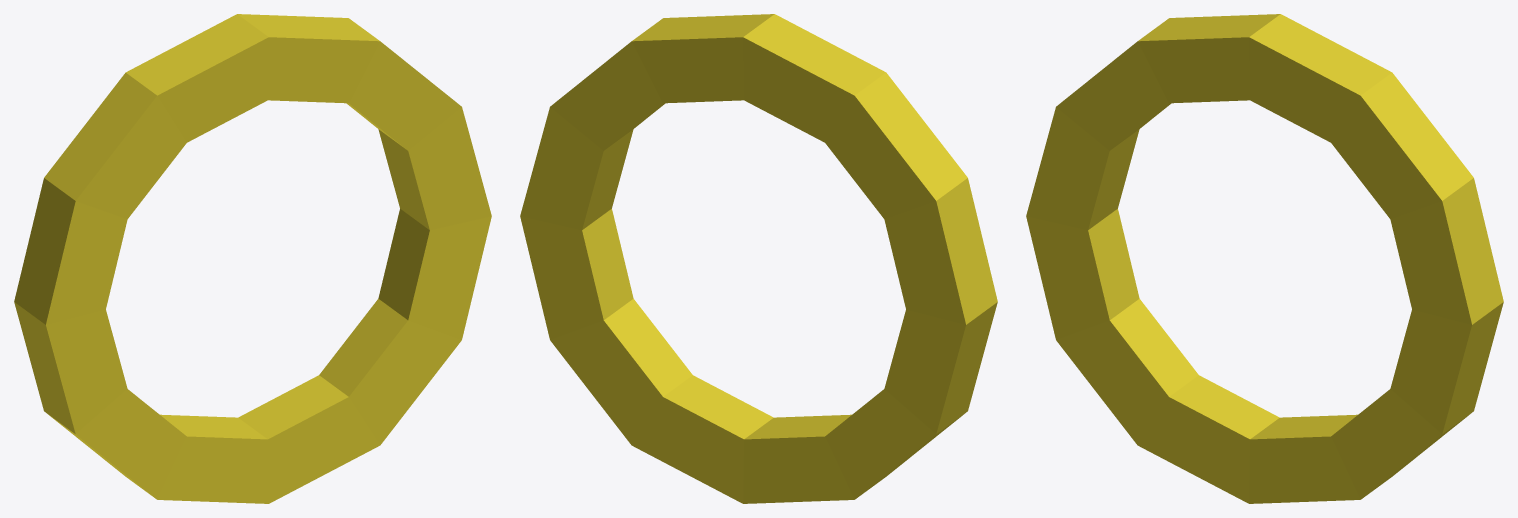
Rendered from Ring_01.fbx.
The picture shows the model from 3 angles, left to right: view 1: azimuth 30°, elevation 25°; view 2: azimuth 150°, elevation 25°; view 3: azimuth 330°, elevation 25°; orthographic projection.
Parts seen in each view (by area): view 1: Ring_01; view 2: Ring_01; view 3: Ring_01.
Boxes of the visible parts, x1=… form: Ring_01: x1=14, y1=14, x2=491, y2=503; Ring_01: x1=520, y1=14, x2=997, y2=503; Ring_01: x1=1026, y1=14, x2=1503, y2=503.
Bounding box in the file's own units: 200 × 200 × 24.62.
